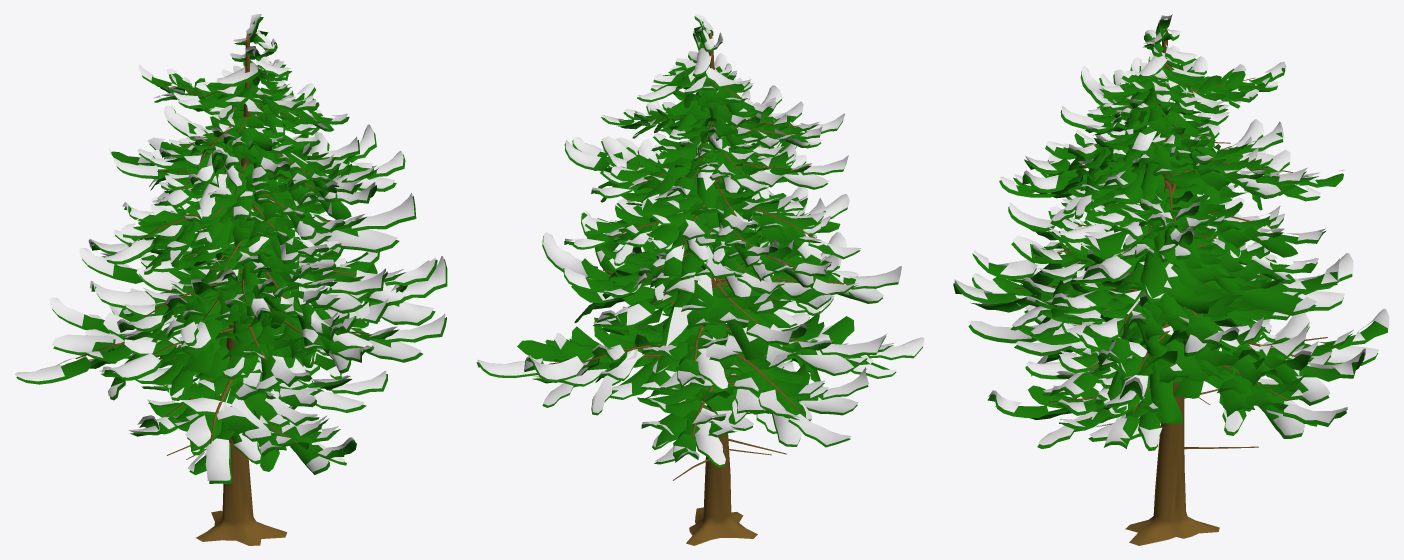
File: SnowTree2.dae
The picture shows the model from 3 angles, left to right: view 1: azimuth 30°, elevation 25°; view 2: azimuth 150°, elevation 25°; view 3: azimuth 270°, elevation 25°; orthographic projection. The views are drawn at different scales.
Visible parts, largest first — view 1: SM_PineTree_001; view 2: SM_PineTree_001; view 3: SM_PineTree_001.
Part boxes in pixels (<box>): SM_PineTree_001: <box>15,14,447,545</box>; SM_PineTree_001: <box>476,14,924,545</box>; SM_PineTree_001: <box>953,14,1389,545</box>.
Size of the model in its own units: 9.1 by 9.08 by 12.04.
